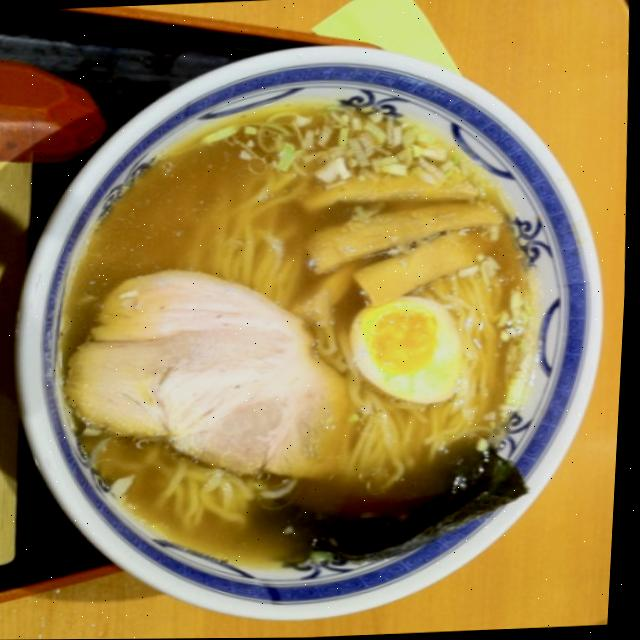面条主食: (0, 20, 625, 640)
